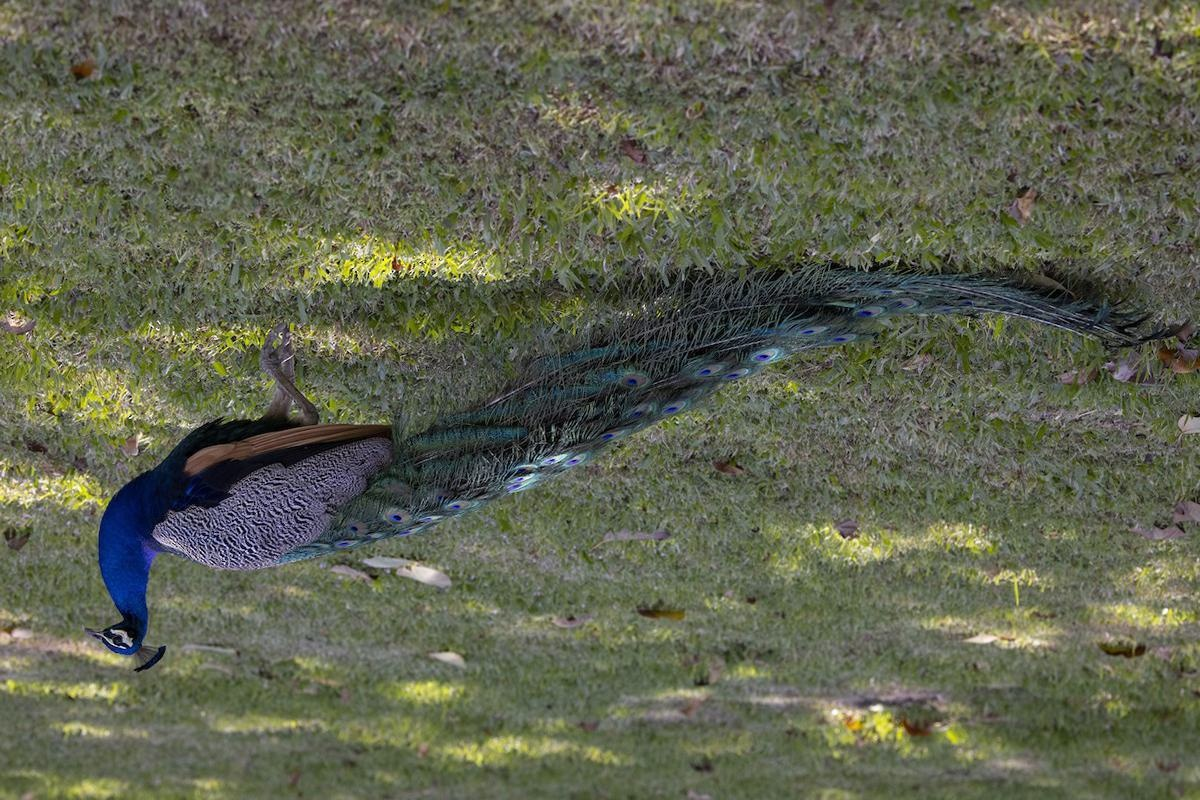peacock: (69, 196, 1124, 674)
